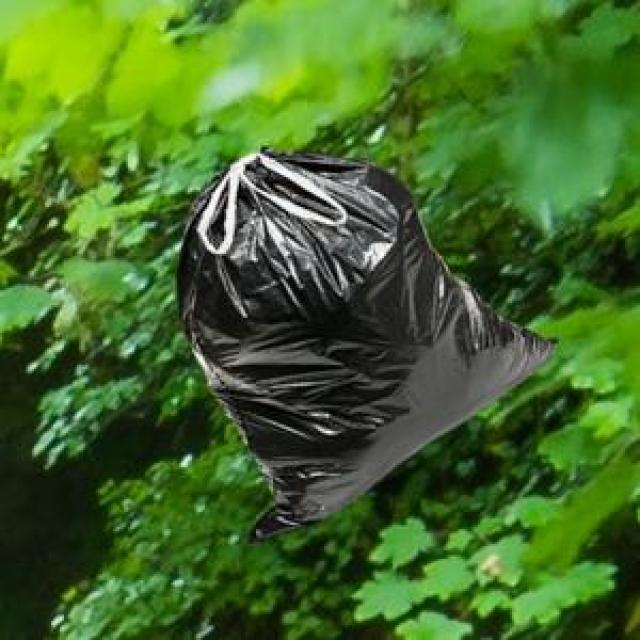Vinyl: (180, 153, 558, 544)
